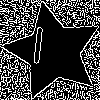I: (28, 26, 47, 74)
